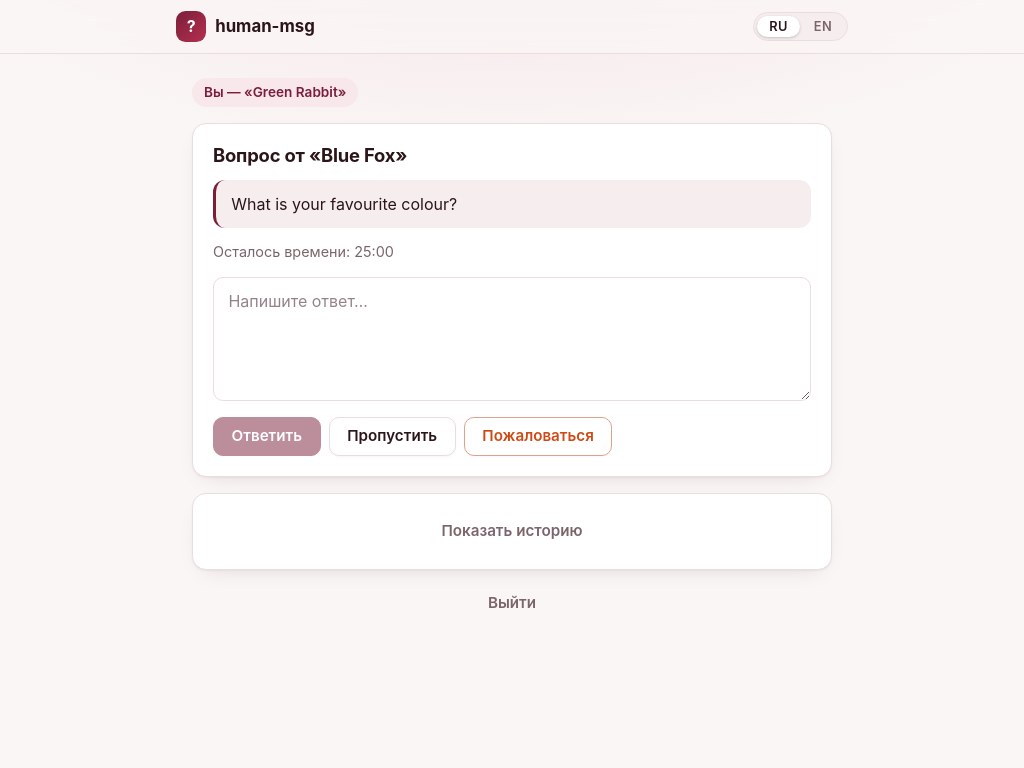
Scenario: the card of an incoming question › warns when the answer arrived too late and became a new question
Type "Late" into the text box labelled "Напишите ответ…" at (512, 339), box [213, 277, 811, 401]
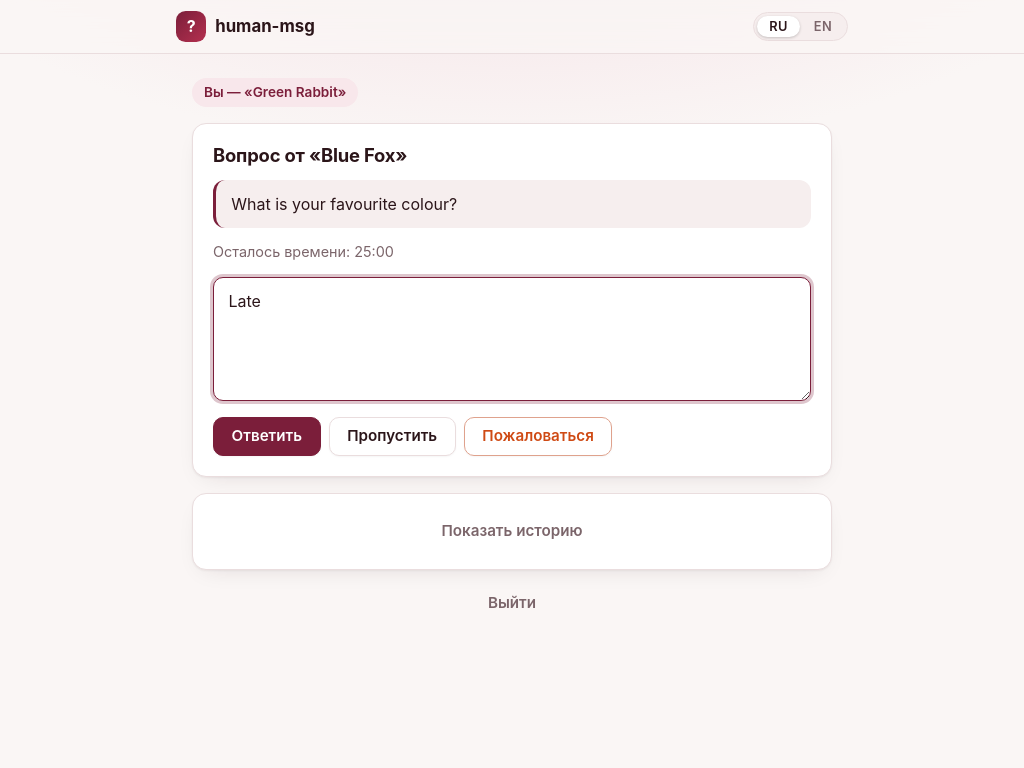
Click the button "Ответить" at (267, 436), box [213, 417, 321, 456]
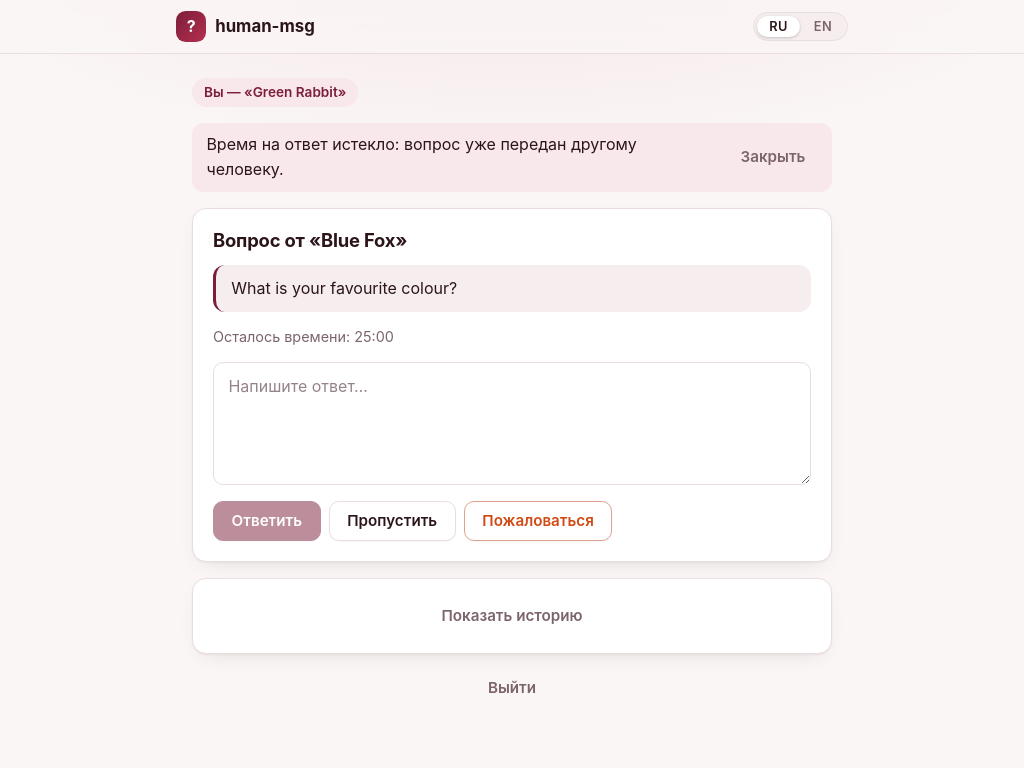
Check: the message with test id "notice" shows "Время на ответ истекло: вопрос уже передан другому человеку.", box [206, 134, 637, 179]
